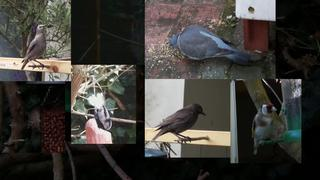goldfinch: (252, 103, 277, 155)
long tailed tit: (98, 89, 112, 131)
mouse: (27, 105, 41, 133)
starling: (151, 103, 206, 144), (21, 24, 47, 70)
wood pigeon: (169, 24, 252, 66)
